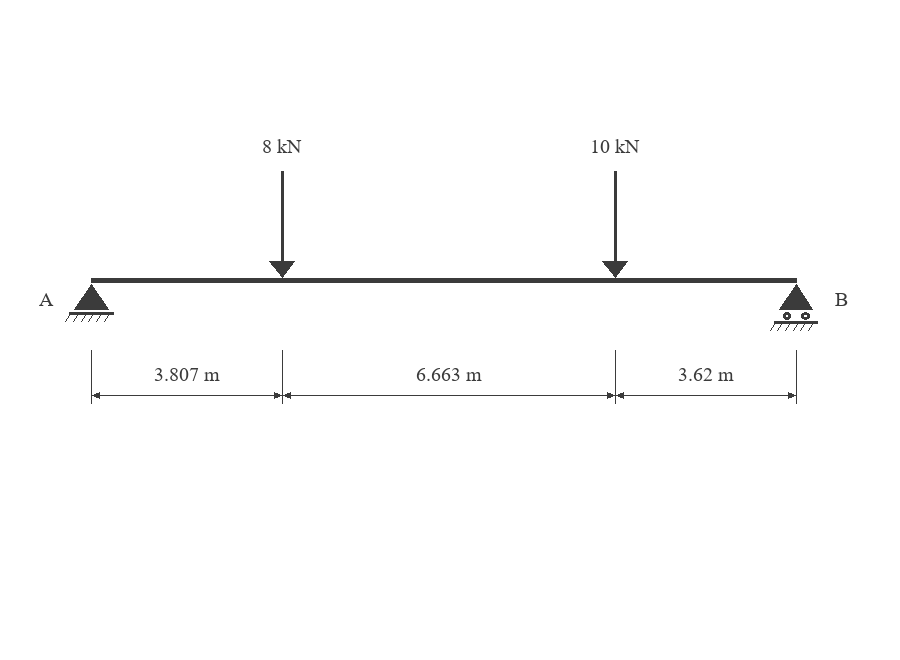pin_support: (65, 284, 114, 322)
point_load: (269, 171, 295, 278), (602, 171, 628, 278)
roller_support: (770, 284, 818, 331)
